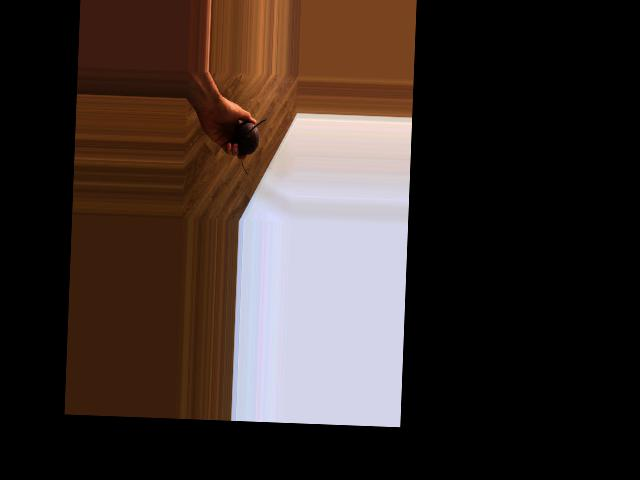beet: (231, 118, 265, 176)
